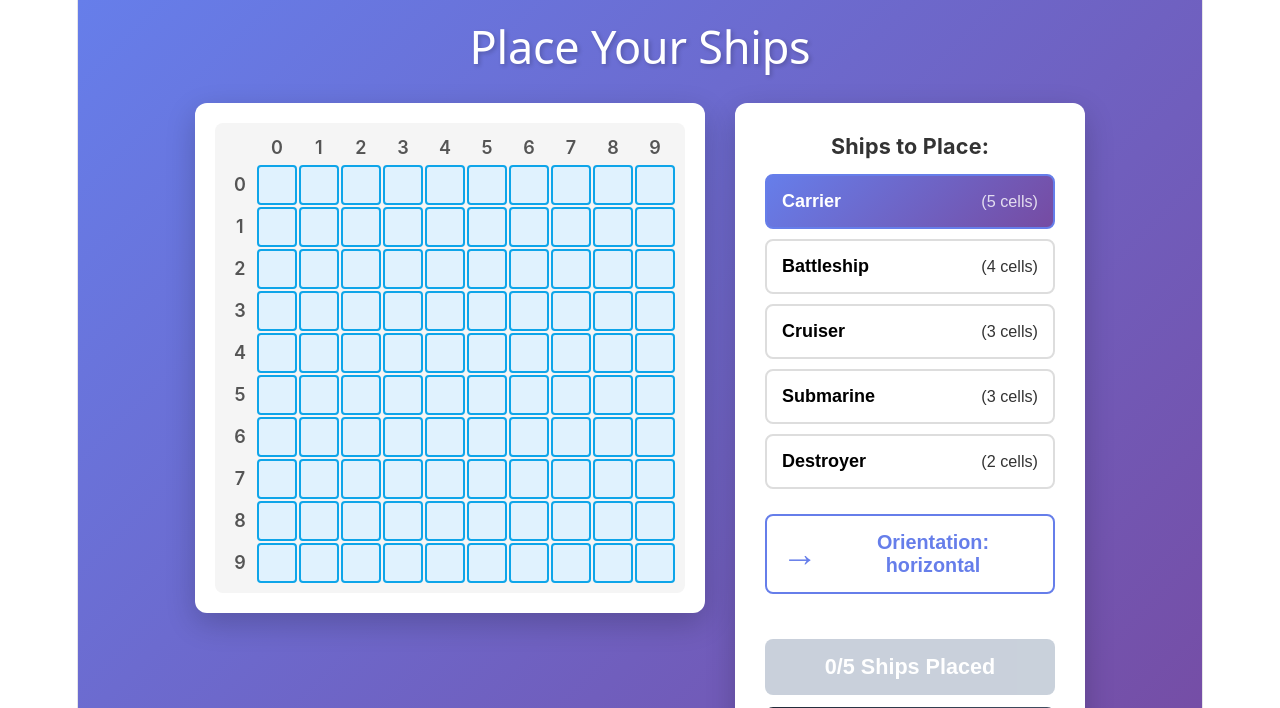
Test: ShipPlacement Component › shows an error for invalid out-of-bounds placement
Click the 10th element with class "cell" at (655, 185), box [635, 165, 675, 205]
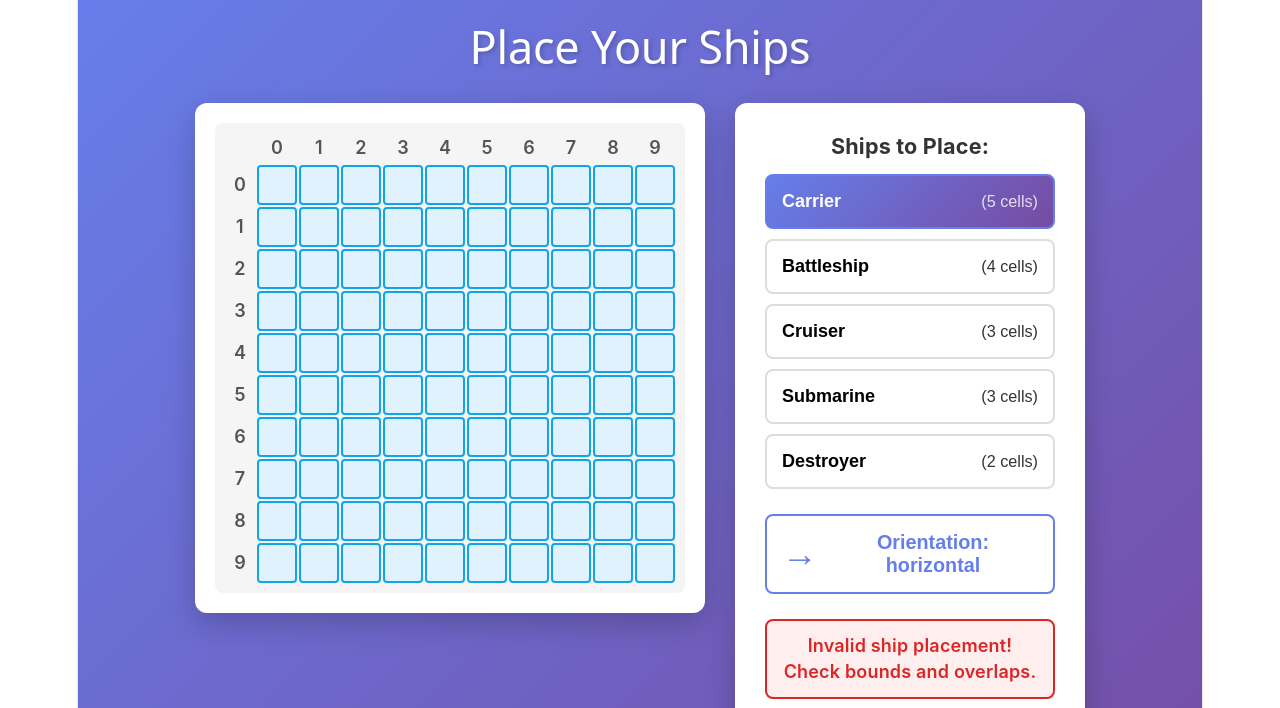
Result: the text "Invalid ship placement! Check bounds and overlaps." is shown at [765, 619, 1055, 699]
